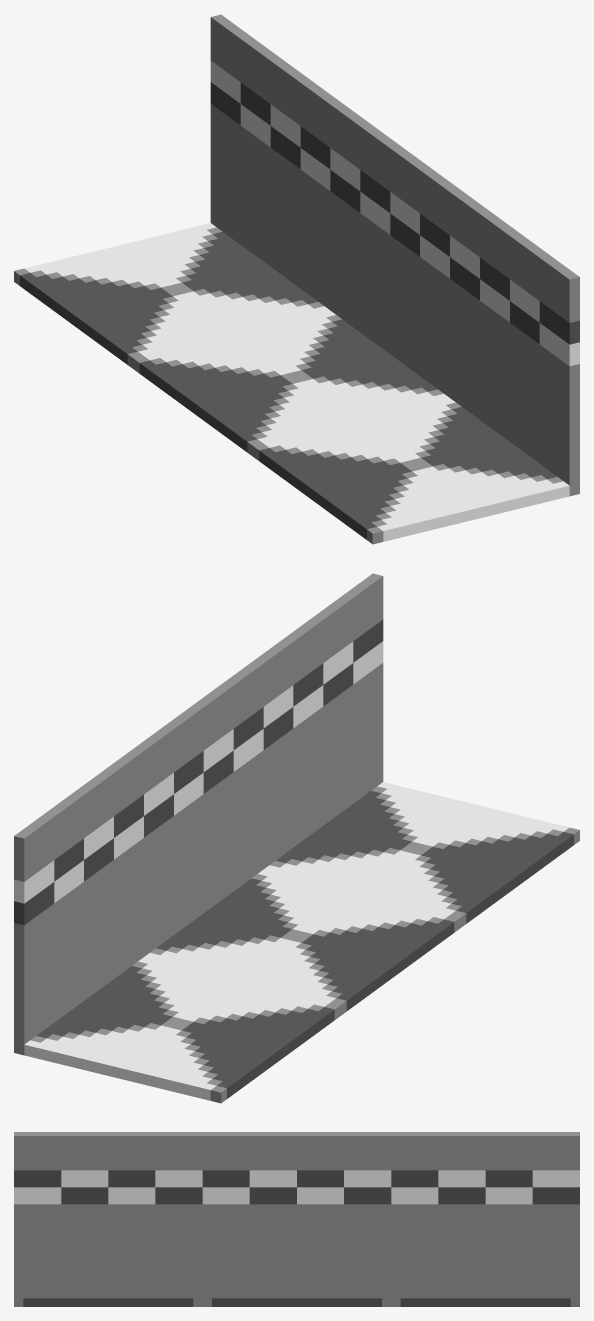
File: level_maze-1.obj
3 renders of one model, top to bottom at view 1: azimuth 30°, elevation 25°; view 2: azimuth 150°, elevation 25°; view 3: azimuth 270°, elevation 25°, orthographic. The views are drawn at different scales.
Visible parts, largest first — view 1: level_maze-1; view 2: level_maze-1; view 3: level_maze-1.
Boxes of the visible parts, x1=… form: level_maze-1: x1=14, y1=14, x2=579, y2=544; level_maze-1: x1=14, y1=573, x2=579, y2=1103; level_maze-1: x1=14, y1=1132, x2=579, y2=1306.
Size of the model in its own units: 20 by 20 by 60.
1 material, 1 textured.
